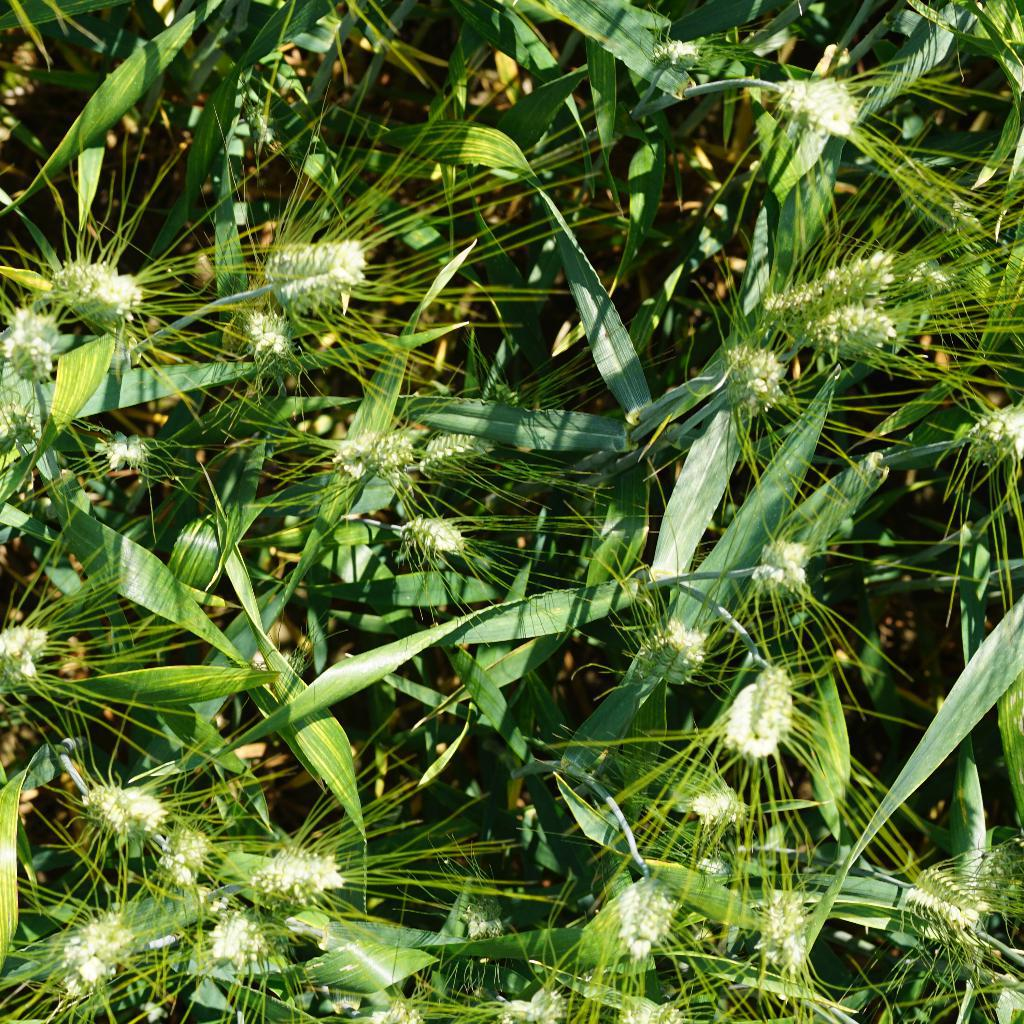0-0: (755, 240, 922, 320), (720, 650, 811, 762), (56, 907, 137, 1000), (51, 251, 150, 326), (267, 228, 368, 298), (903, 860, 985, 944), (784, 66, 874, 139), (804, 301, 918, 355), (257, 836, 339, 903), (761, 879, 818, 974), (620, 867, 677, 960), (195, 908, 275, 972), (2, 306, 66, 384), (89, 781, 165, 845), (727, 336, 795, 407), (645, 620, 712, 691), (396, 507, 478, 564), (0, 620, 63, 692), (417, 422, 497, 477), (496, 975, 582, 1024), (0, 373, 56, 447), (101, 432, 176, 486), (748, 531, 811, 594), (677, 778, 750, 832), (348, 418, 414, 477), (245, 298, 307, 358), (898, 252, 963, 306), (161, 830, 219, 890), (640, 29, 711, 77), (450, 894, 513, 942), (976, 396, 1024, 452)
